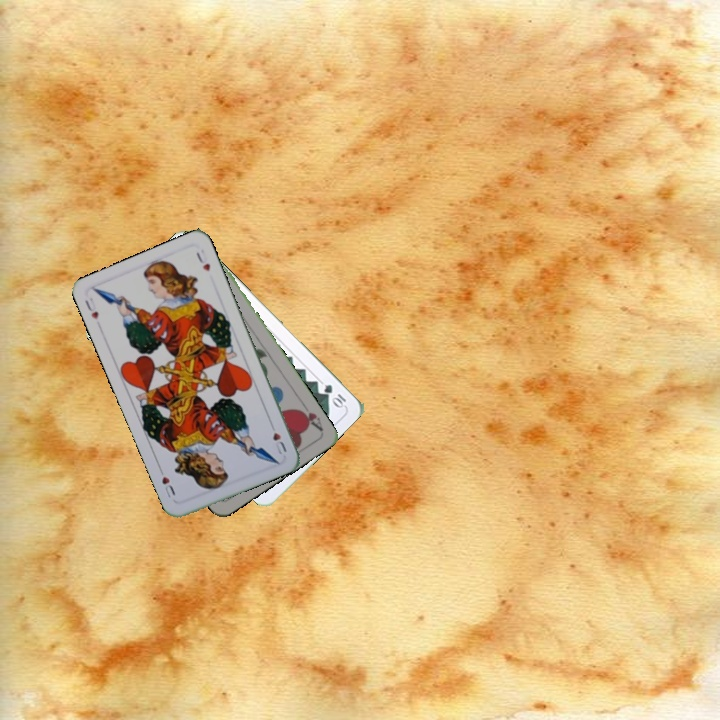G10: (320, 380, 349, 410)
HA: (294, 398, 326, 434)
HU: (266, 418, 289, 458), (81, 293, 101, 322)
